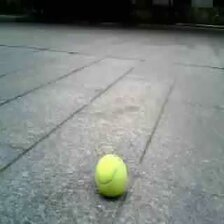tennis: (93, 154, 128, 194)
